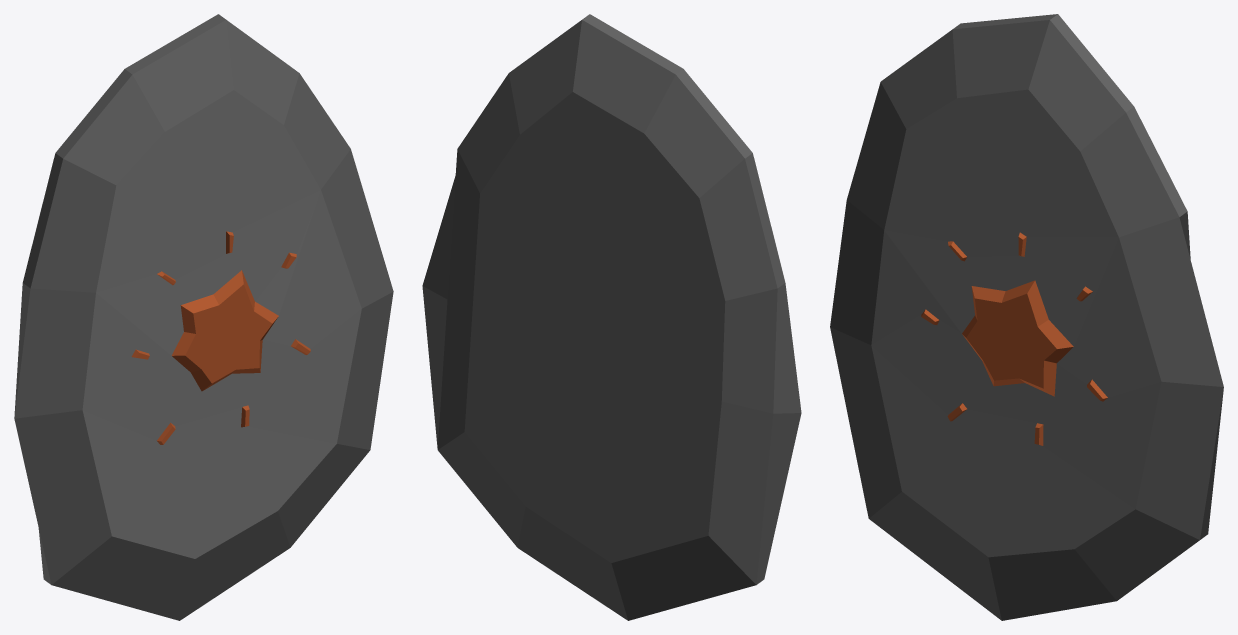
Rendered from orange rune.fbx.
3 renders of one model, left to right at view 1: azimuth 30°, elevation 25°; view 2: azimuth 150°, elevation 25°; view 3: azimuth 330°, elevation 25°, orthographic. The views are drawn at different scales.
Visible parts, largest first — view 1: orange rune; view 2: orange rune; view 3: orange rune.
Boxes of the visible parts, x1,y1,x2,y2 form: orange rune: (14,14,393,620); orange rune: (422,14,801,620); orange rune: (830,14,1223,620).
Bounding box in the file's own units: 316 × 470 × 59.98.
